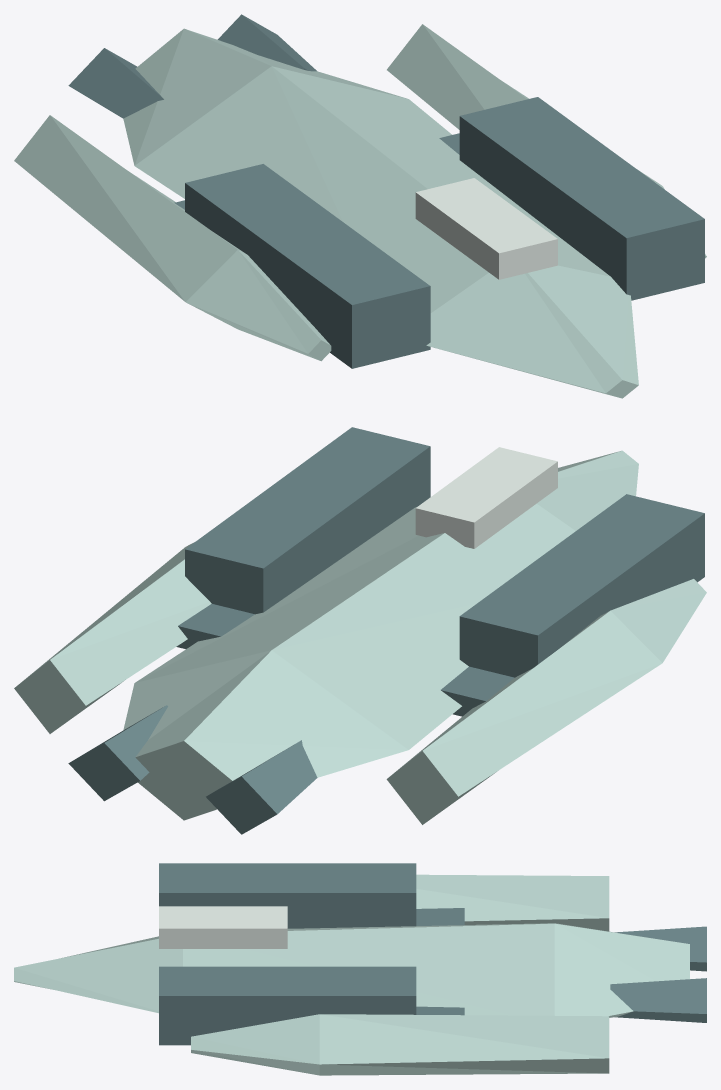
3 views of the same model, one above another, from view 1: azimuth 30°, elevation 25°; view 2: azimuth 150°, elevation 25°; view 3: azimuth 270°, elevation 25° (orthographic). The views are drawn at different scales.
Size of the model in its own units: 3.01 by 0.848 by 4.91.
